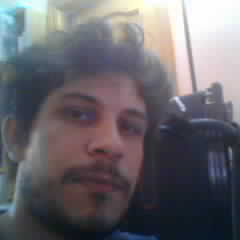without_mask: (38, 67, 149, 234)
